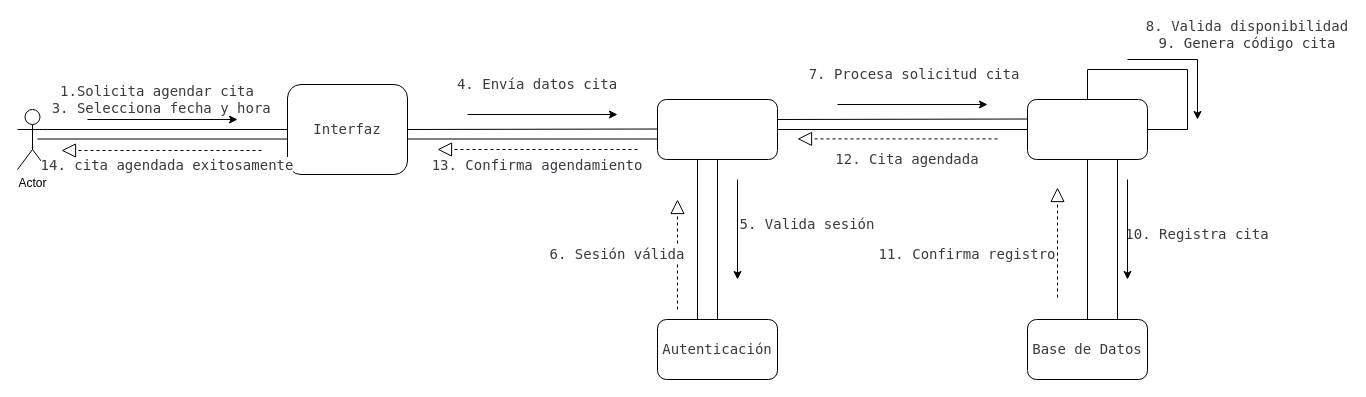
Some shapes in this 1366 by 397 pixel diagram are drawn without their labels. The shapes that lost their labels are listed below. From the top down, each one's box as (x1, y1, x2, y2) in pixels, then its label:
(656, 98, 778, 160): Servidor
(1026, 98, 1148, 160): Servicio Citas
